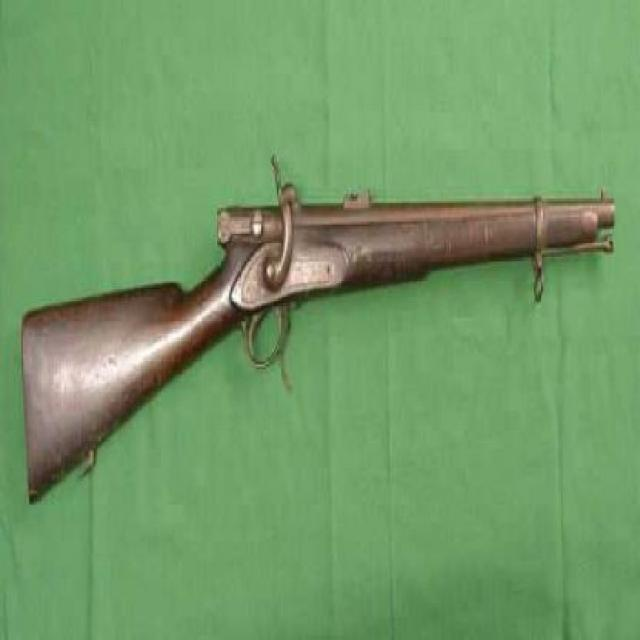weapon: (27, 184, 613, 506)
